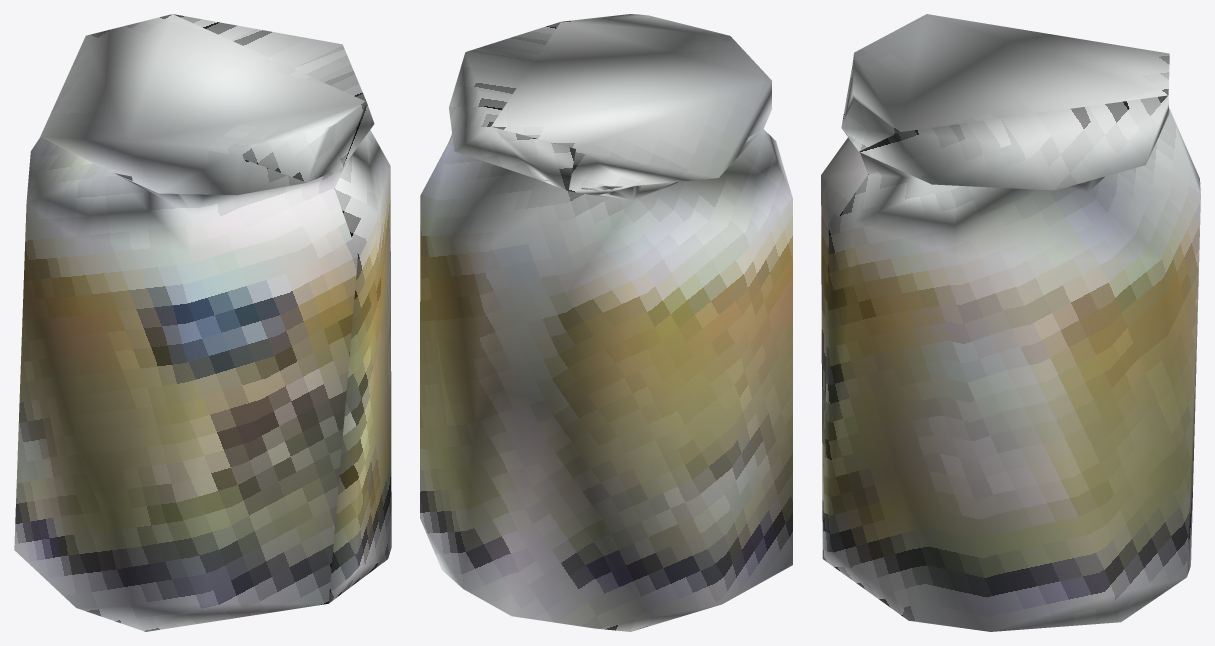
The model's file is Organic_Whey_Protein_Vanilla-low.glb.
The picture shows the model from 3 angles, left to right: view 1: azimuth 30°, elevation 25°; view 2: azimuth 150°, elevation 25°; view 3: azimuth 270°, elevation 25°; orthographic projection. The views are drawn at different scales.
Visible parts, largest first — view 1: Organic_Whey_Protein_Vanilla; view 2: Organic_Whey_Protein_Vanilla; view 3: Organic_Whey_Protein_Vanilla.
Boxes of the visible parts, x1,y1,x2,y2 form: Organic_Whey_Protein_Vanilla: [14, 14, 391, 631]; Organic_Whey_Protein_Vanilla: [420, 14, 792, 631]; Organic_Whey_Protein_Vanilla: [821, 14, 1200, 631].
Bounding box in the file's own units: 0.1164 × 0.1672 × 0.1168.
1 material, 1 textured.
